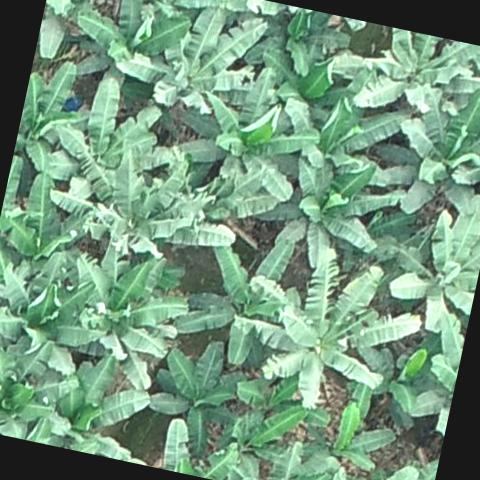Banana-plant: (216, 232, 432, 419), (38, 134, 247, 284), (175, 51, 329, 206), (248, 144, 407, 282), (108, 0, 266, 125), (54, 250, 190, 394), (174, 220, 296, 376), (370, 78, 480, 228), (375, 177, 480, 333), (26, 342, 154, 462), (46, 68, 164, 195), (349, 22, 480, 131), (270, 86, 412, 183), (0, 264, 109, 389), (144, 328, 250, 455), (70, 0, 194, 92), (358, 324, 451, 437), (0, 167, 95, 274), (11, 55, 89, 174), (247, 0, 352, 87), (217, 396, 305, 480), (316, 399, 402, 478), (0, 341, 56, 442), (34, 0, 118, 66)
